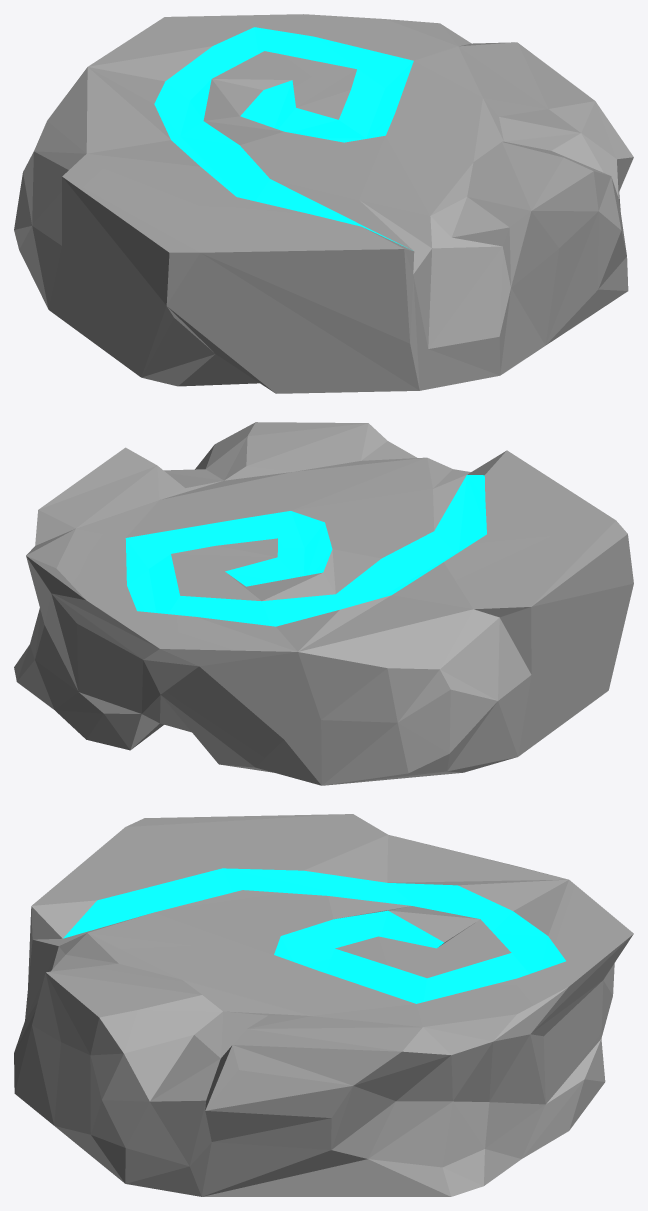
File: Button4.fbx
3 views of the same model, one above another, from view 1: azimuth 30°, elevation 25°; view 2: azimuth 150°, elevation 25°; view 3: azimuth 270°, elevation 25° (orthographic). The views are drawn at different scales.
Parts seen in each view (by area): view 1: SM_Env_Rune_Rounded_01; view 2: SM_Env_Rune_Rounded_01; view 3: SM_Env_Rune_Rounded_01.
Part boxes in pixels (x1=…): SM_Env_Rune_Rounded_01: x1=14, y1=14, x2=633, y2=393; SM_Env_Rune_Rounded_01: x1=14, y1=422, x2=633, y2=785; SM_Env_Rune_Rounded_01: x1=14, y1=814, x2=633, y2=1196.
Bounding box in the file's own units: 176 × 49.66 × 187.
